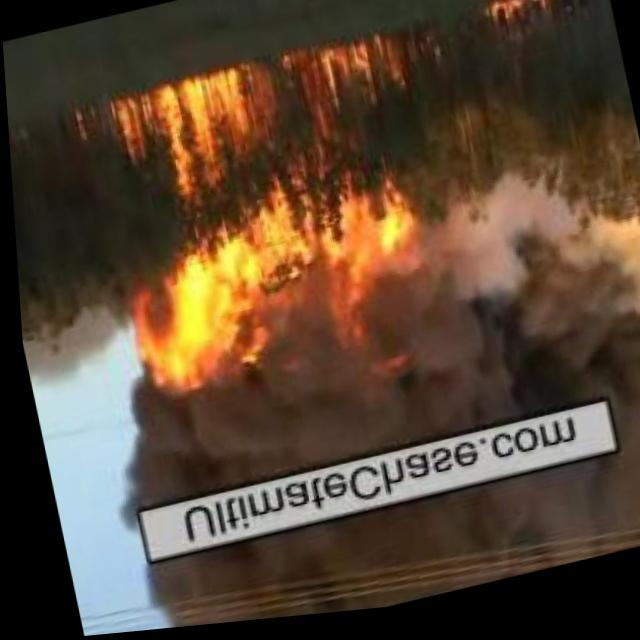Fire: (91, 26, 461, 420), (487, 0, 561, 41)
